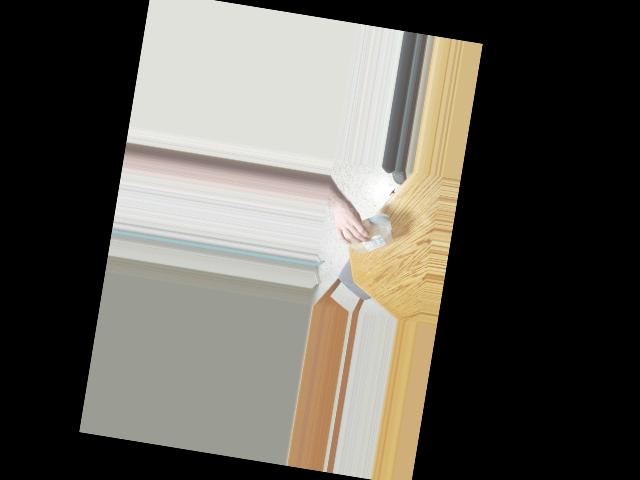cheese: (346, 220, 390, 255)
